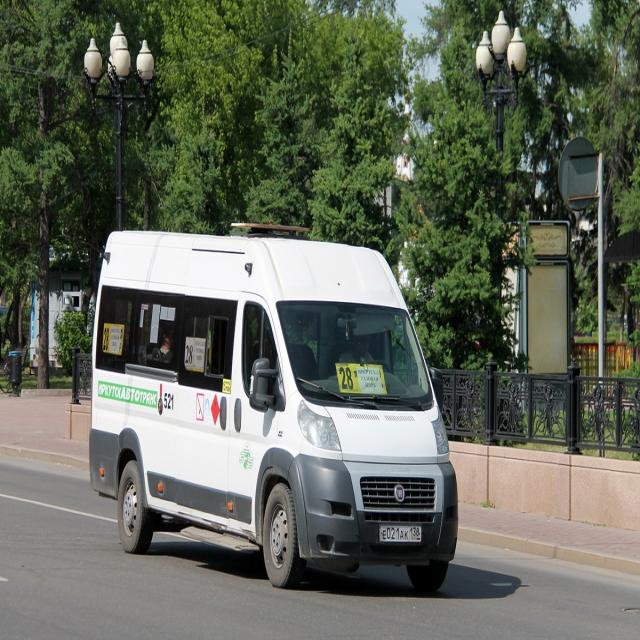number-of-bus: (339, 365, 356, 393), (186, 344, 195, 368)
